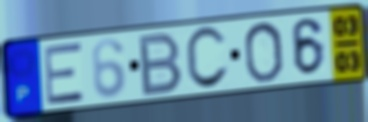6: (89, 37, 129, 101), (290, 16, 328, 78)
B: (138, 29, 185, 99)
C: (183, 24, 231, 93)
E: (42, 40, 87, 108)
O: (242, 19, 285, 85)
